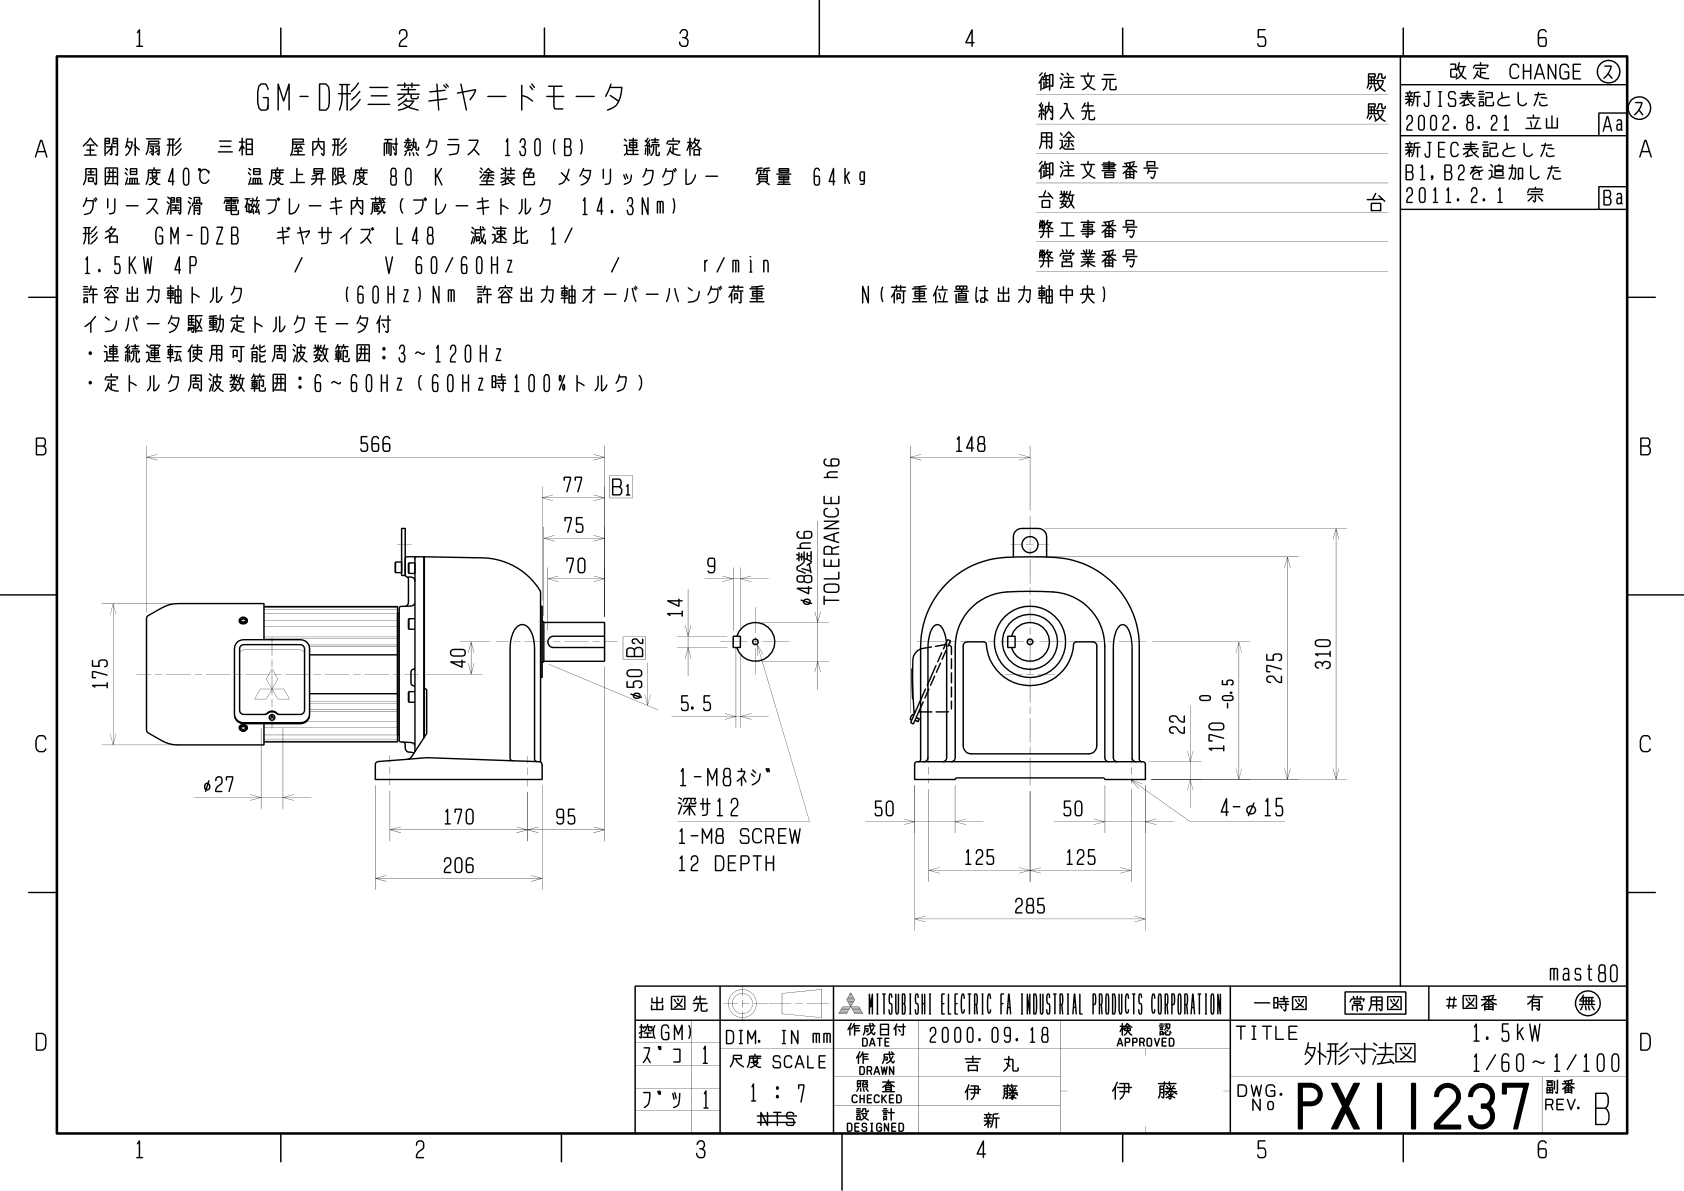GM_D_インバータ屋内_三相_脚: (14, 6, 1684, 1191)
